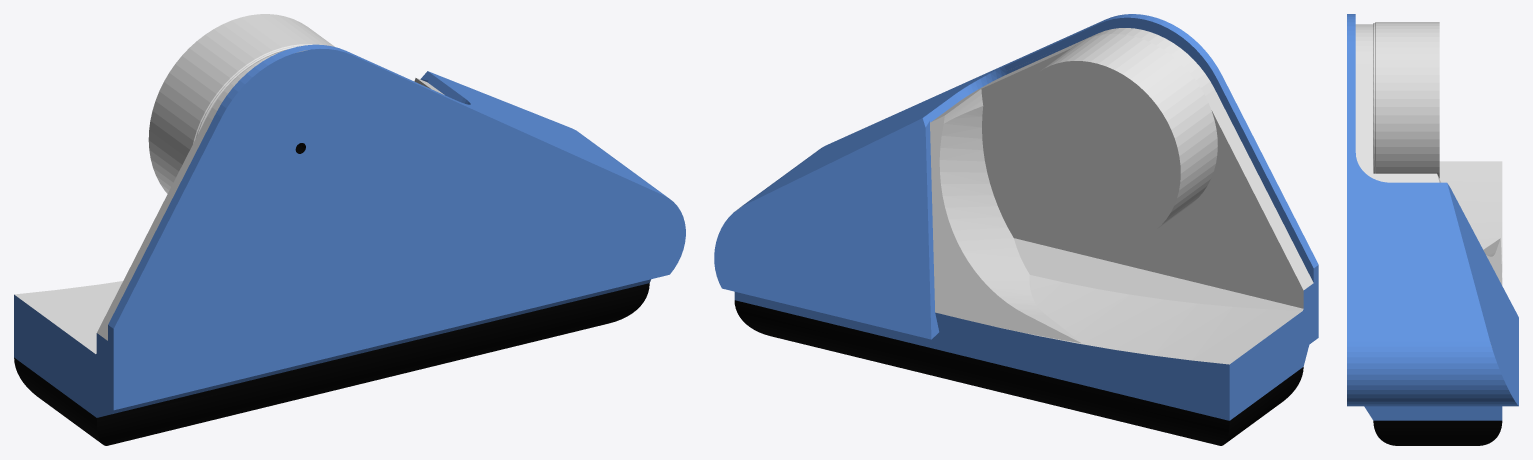
File: right_foot.dae
3 renders of one model, left to right at view 1: azimuth 30°, elevation 25°; view 2: azimuth 150°, elevation 25°; view 3: azimuth 270°, elevation 25°, orthographic. The views are drawn at different scales.
Visible parts, largest first — view 1: right_foot; view 2: right_foot; view 3: right_foot.
Boxes of the visible parts, <box> form: right_foot: <box>14,14,685,445</box>; right_foot: <box>714,14,1318,445</box>; right_foot: <box>1347,14,1518,445</box>.
Size of the model in its own units: 176 by 58.74 by 113.
